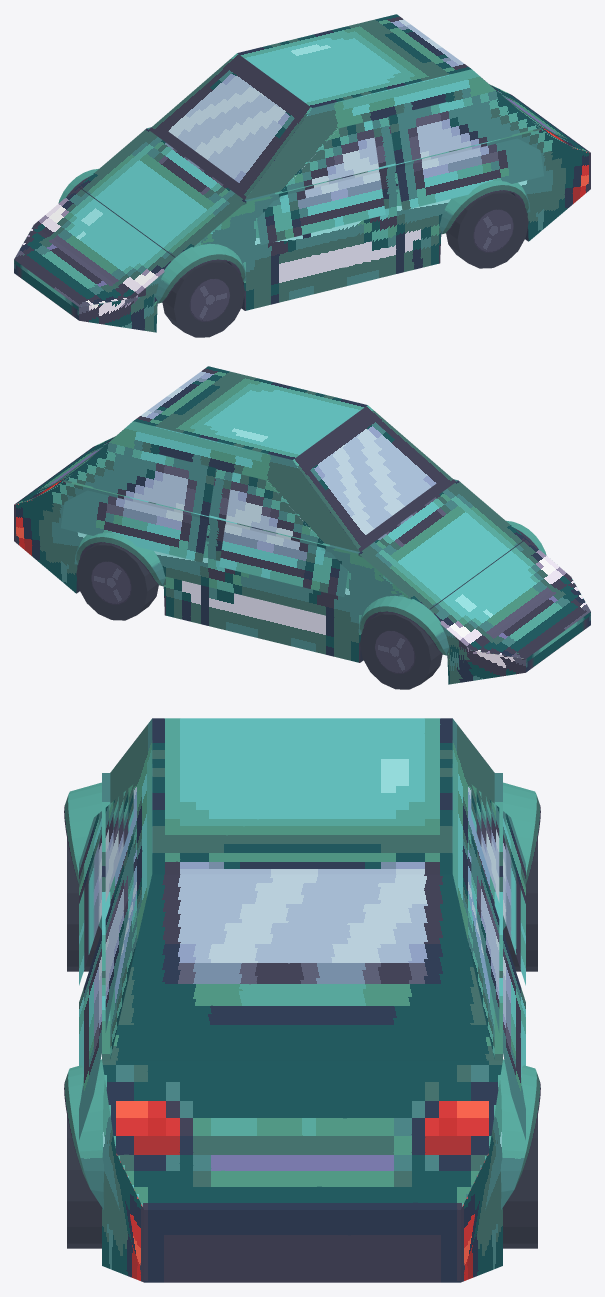
Rendered from compact-3-v1.glb.
3 renders of one model, top to bottom at view 1: azimuth 30°, elevation 25°; view 2: azimuth 150°, elevation 25°; view 3: azimuth 270°, elevation 25°, orthographic. The views are drawn at different scales.
Parts seen in each view (by area): view 1: Body · left, Hood, Windshield, Roof, Window and frame · left · rear, Cabin · left, Window and frame · left · front, Tire · -17 · -1, Tire · 17 · -1, Raised fender · left · -17, Raised fender · left · 17, Hub · 17 · -1 (+4 smaller); view 2: Body · right, Hood, Windshield, Roof, Window and frame · right · rear, Cabin · right, Window and frame · right · front, Tire · -17 · 1, Tire · 17 · 1, Raised fender · right · -17, Raised fender · right · 17, Hub · 17 · 1 (+4 smaller); view 3: Rear windshield, Rear hatch, Roof, Rear fascia, Cabin · left, Cabin · right, Window and frame · left · rear, Window and frame · right · rear, Body · left, Body · right, Window and frame · left · front, Window and frame · right · front (+9 smaller).
Boxes of the visible parts, box(x1,y1,x2,y2) form: Body · left: box(79, 129, 590, 332); Hood: box(14, 128, 246, 306); Windshield: box(149, 53, 311, 199); Roof: box(237, 14, 471, 107); Window and frame · left · rear: box(389, 102, 543, 210); Cabin · left: box(245, 69, 539, 199); Window and frame · left · front: box(257, 120, 385, 244); Tire · -17 · -1: box(162, 260, 244, 337); Tire · 17 · -1: box(446, 191, 528, 268); Raised fender · left · -17: box(153, 243, 246, 304); Raised fender · left · 17: box(439, 180, 530, 234); Hub · 17 · -1: box(473, 209, 513, 252); Body · right: box(14, 481, 525, 684); Hood: box(358, 480, 590, 658); Windshield: box(293, 405, 455, 551); Roof: box(133, 366, 367, 459); Window and frame · right · rear: box(61, 454, 215, 562); Cabin · right: box(65, 421, 359, 551); Window and frame · right · front: box(219, 472, 347, 596); Tire · -17 · 1: box(360, 612, 442, 689); Tire · 17 · 1: box(76, 543, 158, 620); Raised fender · right · -17: box(358, 595, 449, 655); Raised fender · right · 17: box(74, 532, 165, 586); Hub · 17 · 1: box(91, 561, 131, 604); Rear windshield: box(110, 874, 494, 1060); Rear hatch: box(102, 1060, 502, 1209); Roof: box(152, 718, 452, 874); Rear fascia: box(144, 1210, 460, 1282); Cabin · left: box(110, 718, 152, 1058); Cabin · right: box(452, 718, 494, 1058); Window and frame · left · rear: box(79, 833, 133, 1139); Window and frame · right · rear: box(471, 833, 525, 1139); Body · left: box(102, 1061, 144, 1282); Body · right: box(460, 1061, 502, 1282); Window and frame · left · front: box(79, 784, 133, 985); Window and frame · right · front: box(471, 784, 525, 985).
Bounding box in the file's own units: 58.2 × 20.2 × 23.8.
Materials: 1 (1 with a texture image).
